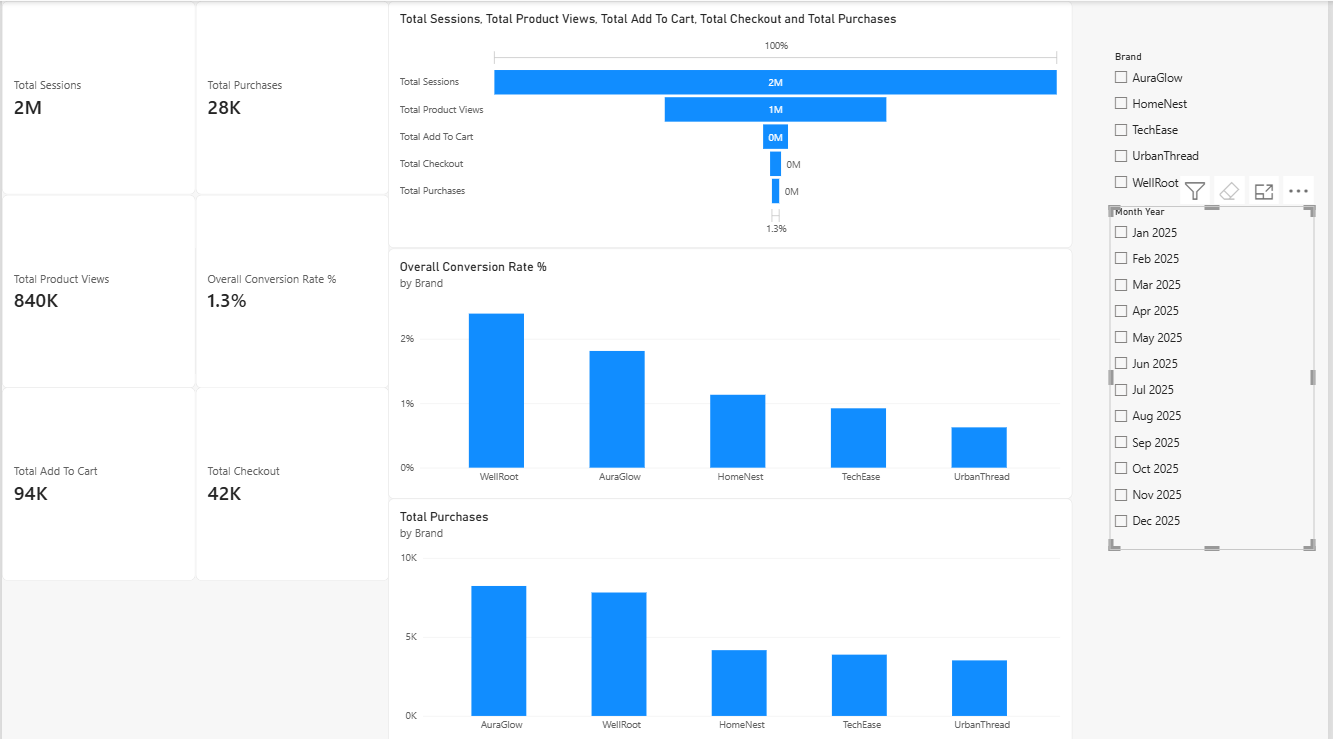

Layout of this report page (visuals, bound fields, positions):
{"tool":"powerbi","page":{"name":"Conversion Funnel","canvas":[1920,1080],"ordinal":1},"visuals":[{"type":"cardVisual","fields":{"Data":["website_funnel.Total Sessions"]},"box":[0,0,280,280],"z":0},{"type":"cardVisual","fields":{"Data":["website_funnel.Total Product Views"]},"box":[0,280,280,280],"z":1000},{"type":"cardVisual","fields":{"Data":["website_funnel.Total Add To Cart"]},"box":[0,560,280,280],"z":2000},{"type":"cardVisual","fields":{"Data":["website_funnel.Total Checkout"]},"box":[280,560,280,280],"z":3000},{"type":"cardVisual","fields":{"Data":["website_funnel.Total Purchases"]},"box":[280,0,280,280],"z":3001},{"type":"cardVisual","fields":{"Data":["website_funnel.Overall Conversion Rate %"]},"box":[280,280,280,280],"z":3002},{"type":"funnel","fields":{"Y":["website_funnel.Total Sessions","website_funnel.Total Product Views","website_funnel.Total Add To Cart","website_funnel.Total Checkout","website_funnel.Total Purchases"]},"box":[560,0,990,357.5],"z":3003},{"type":"slicer","fields":{"Values":["BrandTable.Brand"]},"box":[1602.5,72.5,280,210],"z":3004},{"type":"slicer","fields":{"Values":["DateTable.Month Year"]},"box":[1602.5,297.5,297.5,497.5],"z":3005},{"type":"clusteredColumnChart","fields":{"Category":["BrandTable.Brand"],"Y":["website_funnel.Overall Conversion Rate %"]},"box":[560,357.5,990,362.5],"z":3006},{"type":"clusteredColumnChart","fields":{"Category":["BrandTable.Brand"],"Y":["website_funnel.Total Purchases"]},"box":[560,720,990,360],"z":3007}]}

Visuals, with their boxes in screenshot pixels (x1, y1, x2, y2), scaled from the page's 1920x1080 canvas onto the 1333x739 screenshot:
cardVisual - website_funnel.Total Sessions: x1=0 y1=0 x2=194 y2=192
cardVisual - website_funnel.Total Product Views: x1=0 y1=192 x2=194 y2=383
cardVisual - website_funnel.Total Add To Cart: x1=0 y1=383 x2=194 y2=575
cardVisual - website_funnel.Total Checkout: x1=194 y1=383 x2=389 y2=575
cardVisual - website_funnel.Total Purchases: x1=194 y1=0 x2=389 y2=192
cardVisual - website_funnel.Overall Conversion Rate %: x1=194 y1=192 x2=389 y2=383
funnel - website_funnel.Total Sessions x website_funnel.Total Product Views: x1=389 y1=0 x2=1076 y2=245
slicer - BrandTable.Brand: x1=1113 y1=50 x2=1307 y2=193
slicer - DateTable.Month Year: x1=1113 y1=204 x2=1319 y2=544
clusteredColumnChart - BrandTable.Brand x website_funnel.Overall Conversion Rate %: x1=389 y1=245 x2=1076 y2=493
clusteredColumnChart - BrandTable.Brand x website_funnel.Total Purchases: x1=389 y1=493 x2=1076 y2=738
